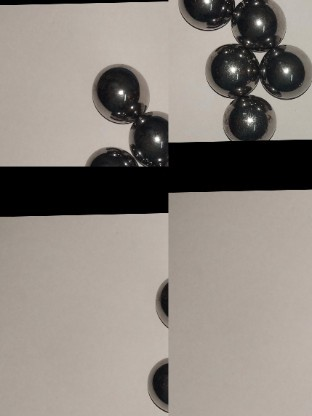ironball: (90, 61, 159, 121), (206, 42, 262, 100), (229, 0, 288, 46), (264, 38, 310, 97), (124, 110, 165, 163), (219, 99, 275, 135), (177, 0, 233, 33), (147, 346, 166, 414), (150, 268, 169, 336), (85, 145, 142, 166)
